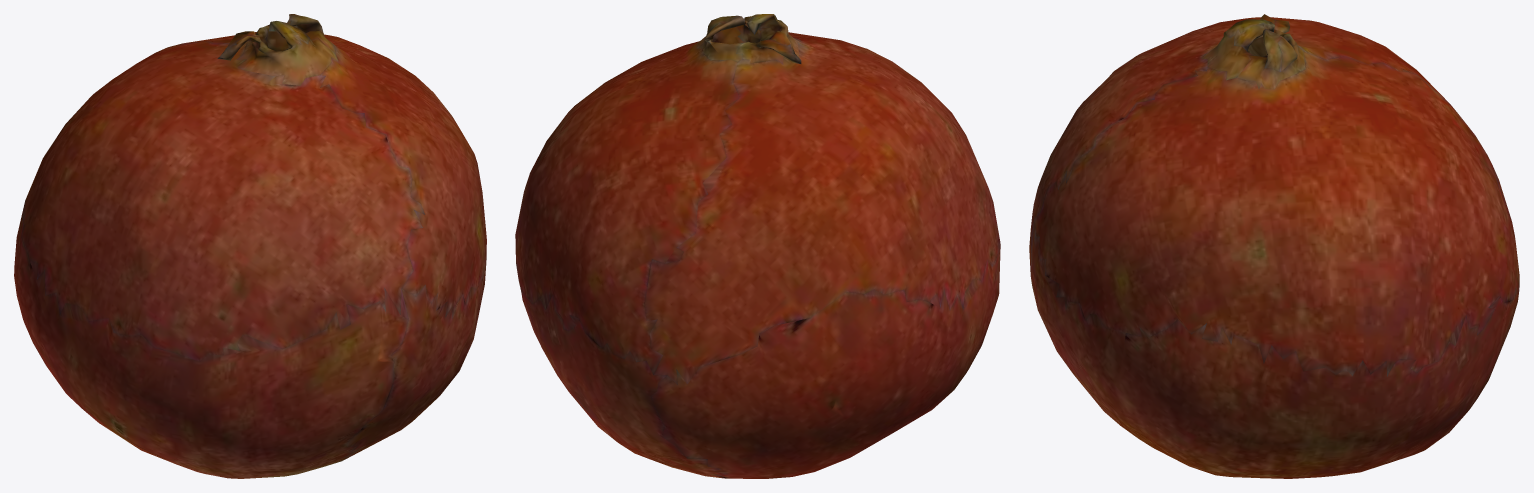
The model's file is food_pomegranate_01.glb.
3 views of the same model, side by side, from view 1: azimuth 30°, elevation 25°; view 2: azimuth 150°, elevation 25°; view 3: azimuth 270°, elevation 25° (orthographic). The views are drawn at different scales.
Visible parts, largest first — view 1: food_pomegranate_01; view 2: food_pomegranate_01; view 3: food_pomegranate_01.
Boxes of the visible parts, bbox=[...] form: food_pomegranate_01: bbox=[14, 14, 486, 478]; food_pomegranate_01: bbox=[515, 14, 1000, 478]; food_pomegranate_01: bbox=[1029, 14, 1519, 478].
Bounding box in the file's own units: 0.1143 × 0.1147 × 0.1154.
1 material, 1 textured.
